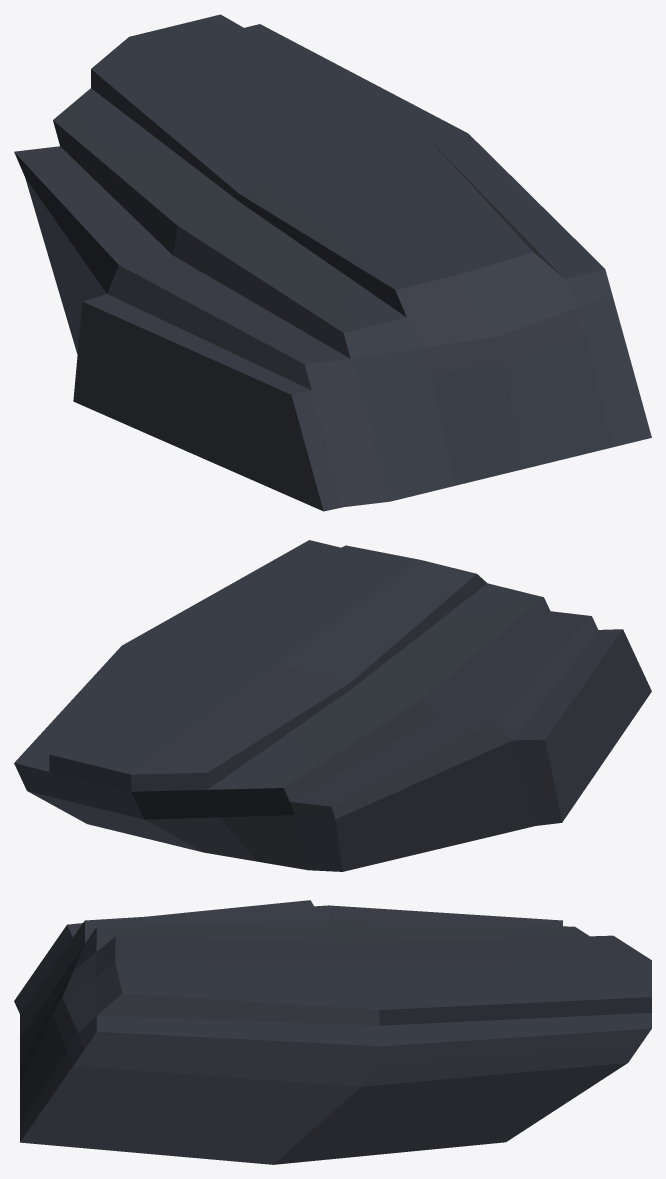
File: Rock_005.fbx
The picture shows the model from 3 angles, top to bottom: view 1: azimuth 30°, elevation 25°; view 2: azimuth 150°, elevation 25°; view 3: azimuth 270°, elevation 25°; orthographic projection. The views are drawn at different scales.
Visible parts, largest first — view 1: Rock_005; view 2: Rock_005; view 3: Rock_005.
Part boxes in pixels (x1=…): Rock_005: x1=14, y1=14, x2=651, y2=511; Rock_005: x1=14, y1=540, x2=651, y2=871; Rock_005: x1=14, y1=900, x2=651, y2=1164.
Size of the model in its own units: 353 by 112 by 513.
